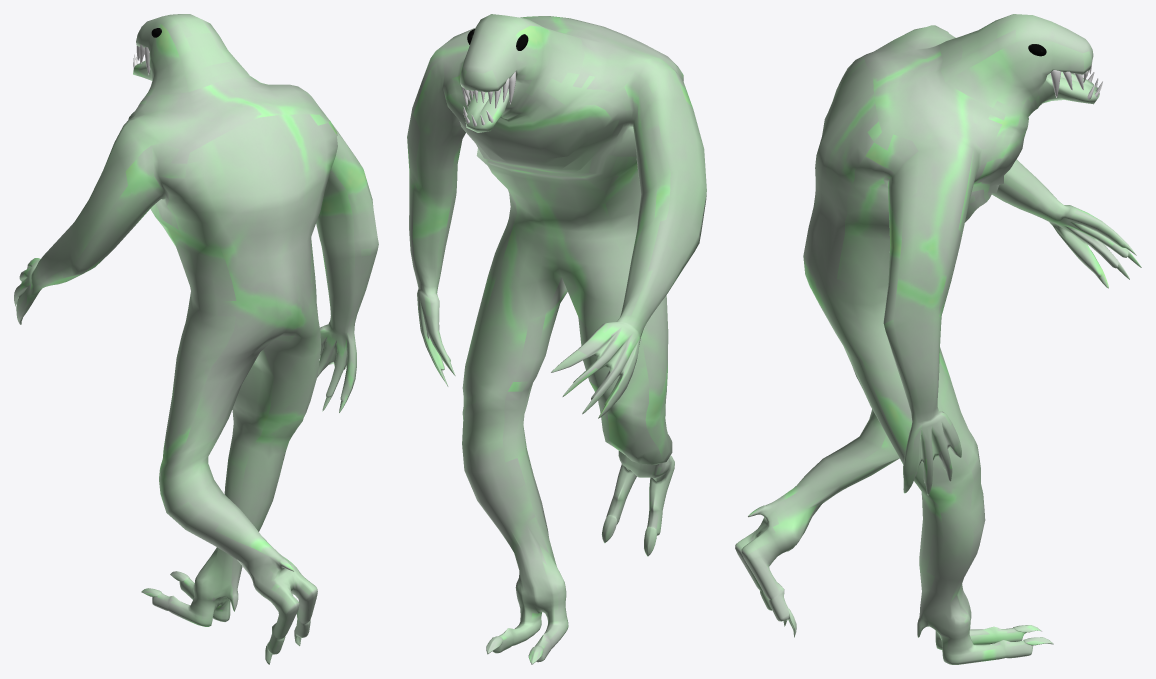
Rendered from Berserkerandar.0062.obj.
3 views of the same model, side by side, from view 1: azimuth 30°, elevation 25°; view 2: azimuth 150°, elevation 25°; view 3: azimuth 270°, elevation 25° (orthographic). The views are drawn at different scales.
Visible parts, largest first — view 1: polySurface27; view 2: polySurface27; view 3: polySurface27.
Part boxes in pixels (left/top/right/bottom): polySurface27: left=14, top=14, right=378, bottom=664; polySurface27: left=407, top=14, right=706, bottom=664; polySurface27: left=735, top=14, right=1141, bottom=664.
Bounding box in the file's own units: 11.64 × 23.37 × 13.46.
Materials: 1 (1 with a texture image).
